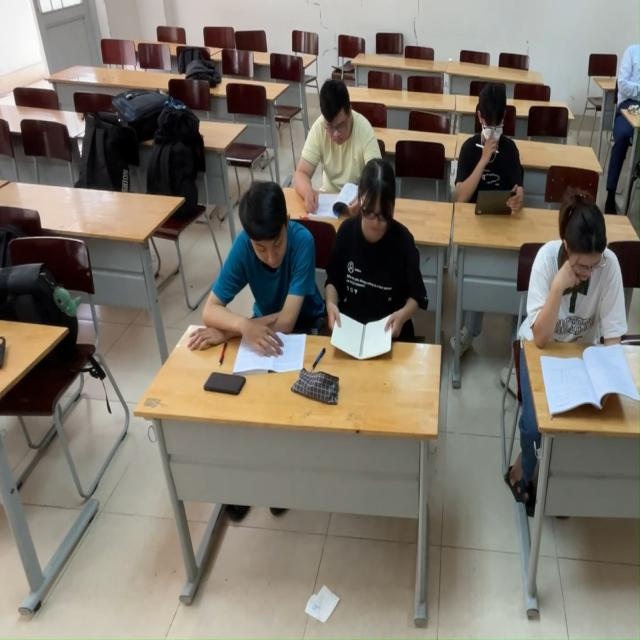read: (530, 186, 640, 428), (217, 167, 313, 383), (343, 170, 429, 388), (451, 84, 525, 221), (294, 91, 356, 221)
